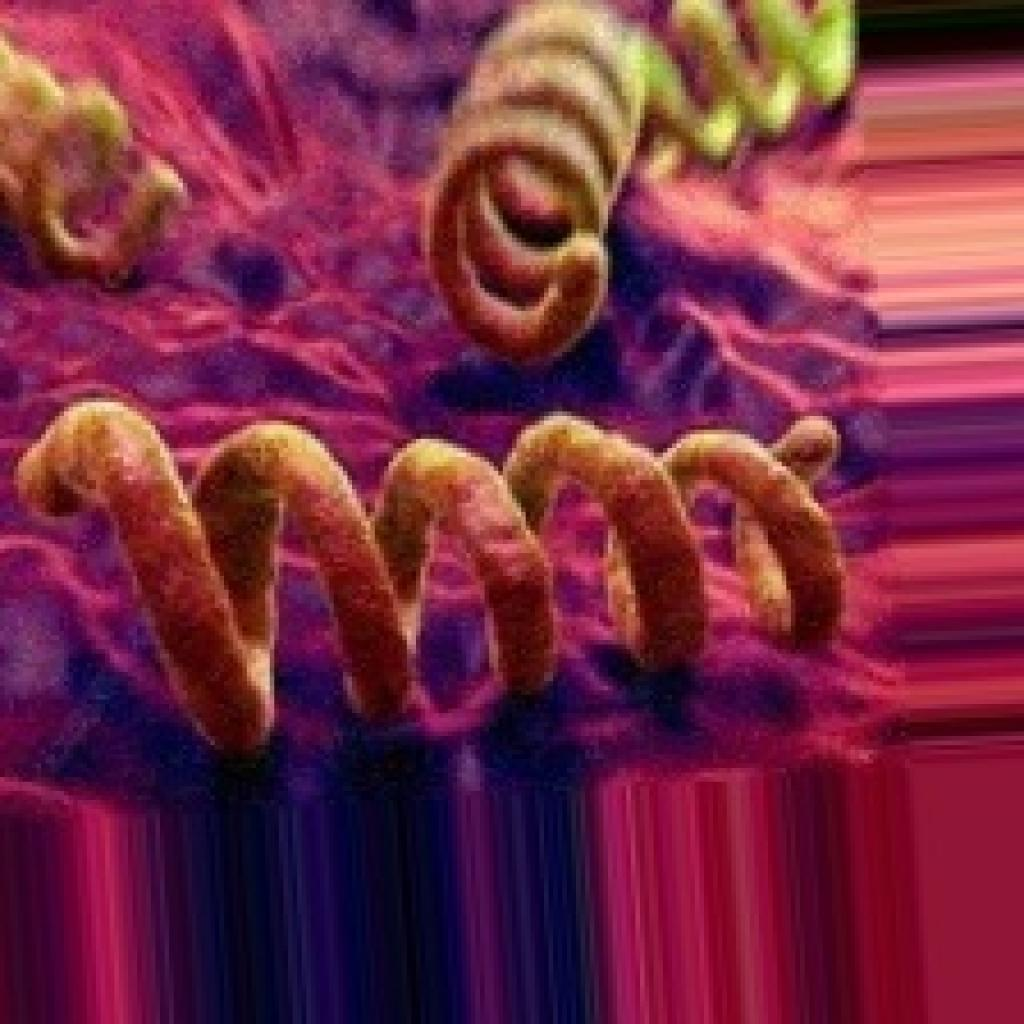Sprialbacteria: (9, 393, 850, 759), (416, 0, 859, 366), (0, 0, 187, 288)
